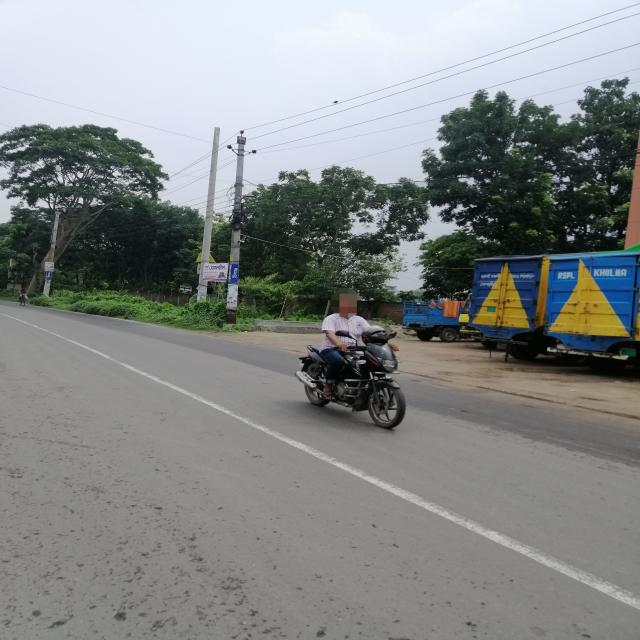Motorbike: (262, 324, 436, 450)
